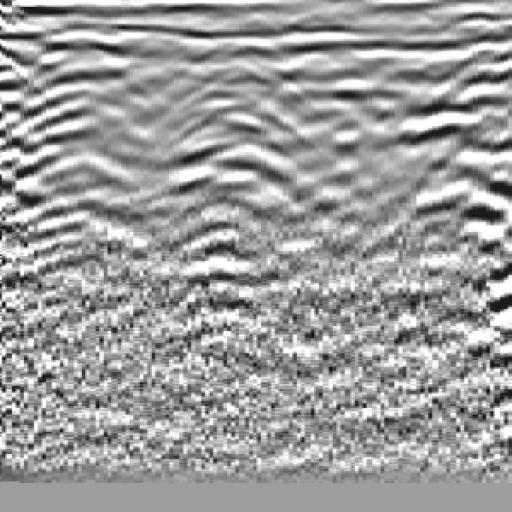metalic: (146, 33, 326, 300)
nonmetalic: (393, 25, 512, 297)
